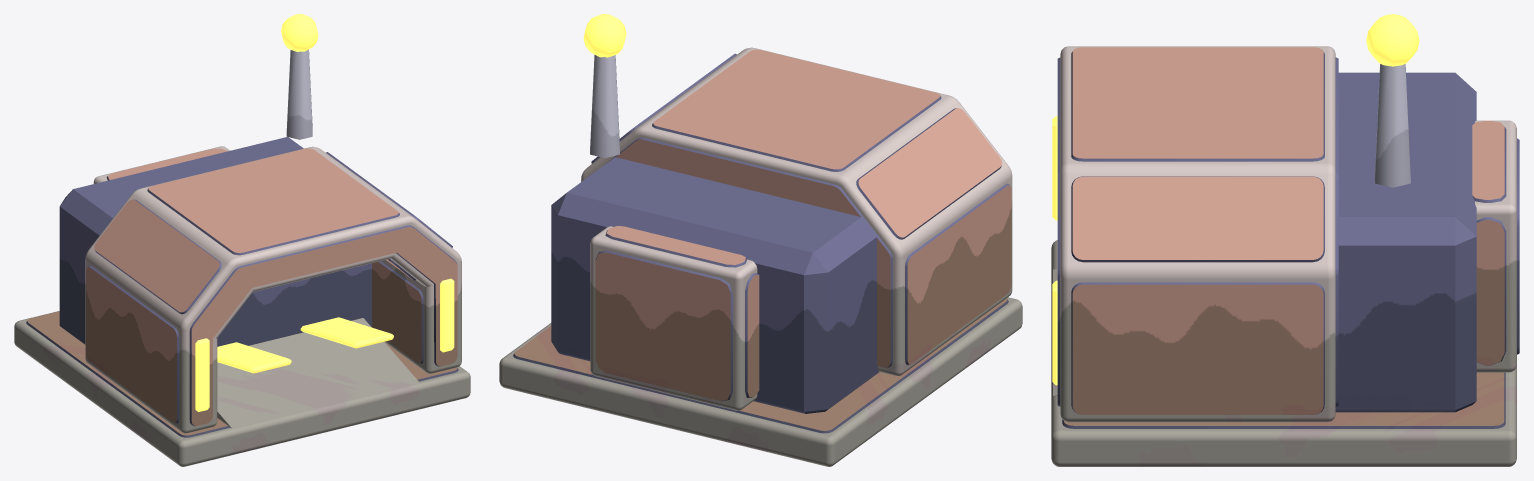
The model's file is R4X_GroundDroneDeployer.glb.
The picture shows the model from 3 angles, left to right: view 1: azimuth 30°, elevation 25°; view 2: azimuth 150°, elevation 25°; view 3: azimuth 270°, elevation 25°; orthographic projection. The views are drawn at different scales.
Parts seen in each view (by area): view 1: R4X_GroundDroneDeployer_Body; view 2: R4X_GroundDroneDeployer_Body; view 3: R4X_GroundDroneDeployer_Body.
Boxes of the visible parts, left/top/right/bottom form: R4X_GroundDroneDeployer_Body: left=14, top=14, right=470, bottom=466; R4X_GroundDroneDeployer_Body: left=499, top=14, right=1022, bottom=466; R4X_GroundDroneDeployer_Body: left=1051, top=14, right=1519, bottom=466.
Size of the model in its own units: 0.514 by 0.5145 by 0.517.
5 materials, 4 textured.
